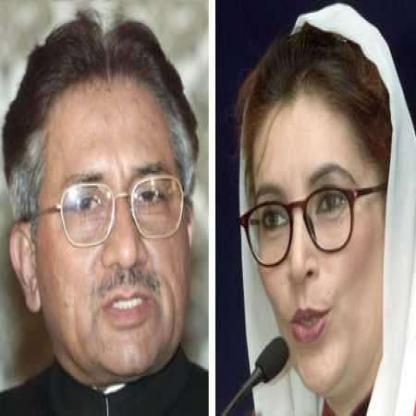face: (31, 22, 196, 386), (245, 45, 389, 397)
